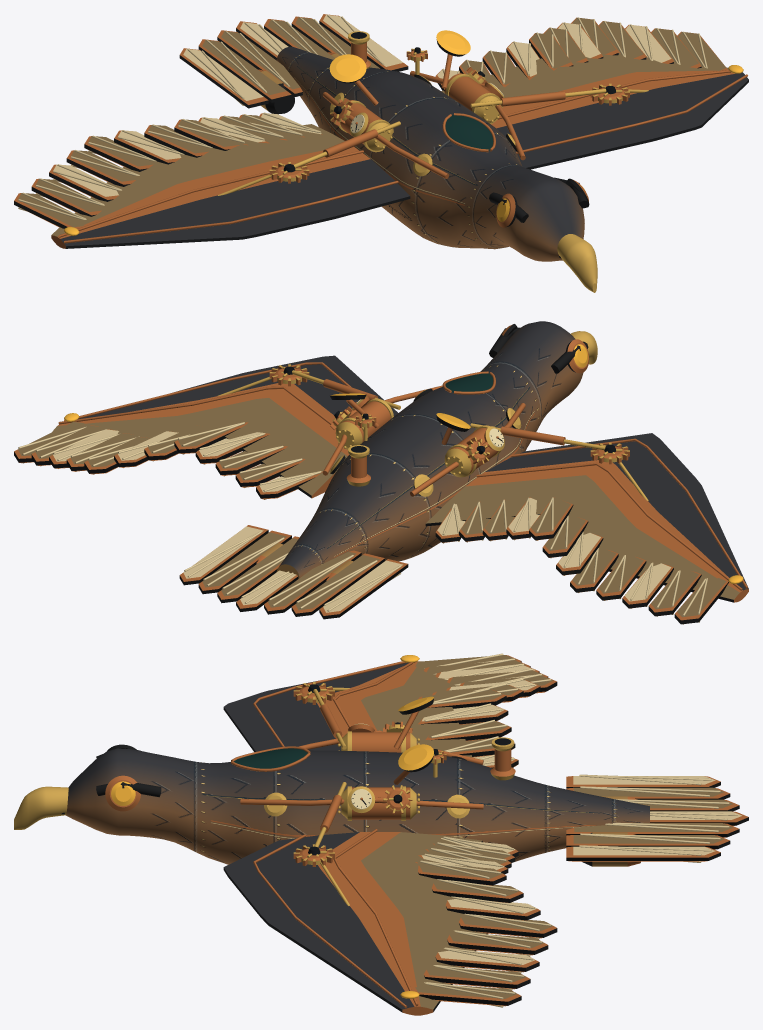
3 renders of one model, top to bottom at view 1: azimuth 30°, elevation 25°; view 2: azimuth 150°, elevation 25°; view 3: azimuth 270°, elevation 25°, orthographic. The views are drawn at different scales.
Parts seen in each view (by area): view 1: osprey_hull; view 2: osprey_hull; view 3: osprey_hull.
Boxes of the visible parts, box(x1,y1,x2,y2) form: osprey_hull: box(14, 14, 748, 292); osprey_hull: box(14, 321, 748, 624); osprey_hull: box(14, 653, 748, 1015).
Bounding box in the file's own units: 41 × 8.67 × 36.76.
Materials: 1 (1 with a texture image).
